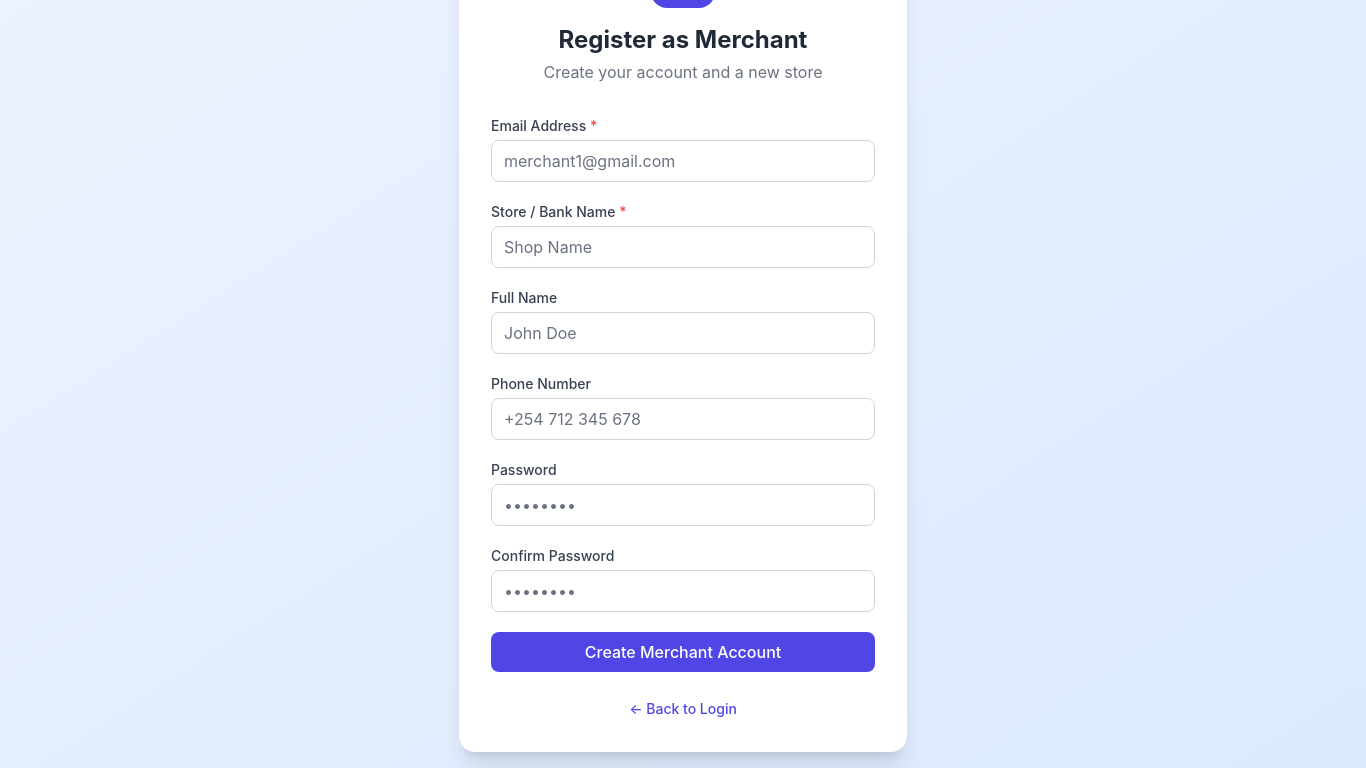
it: Register Page - Merchant Mode (no token) › shows validation error for missing store name
(page scrolled)
Click the button "Create Merchant Account" at (683, 652), box [491, 632, 875, 672]
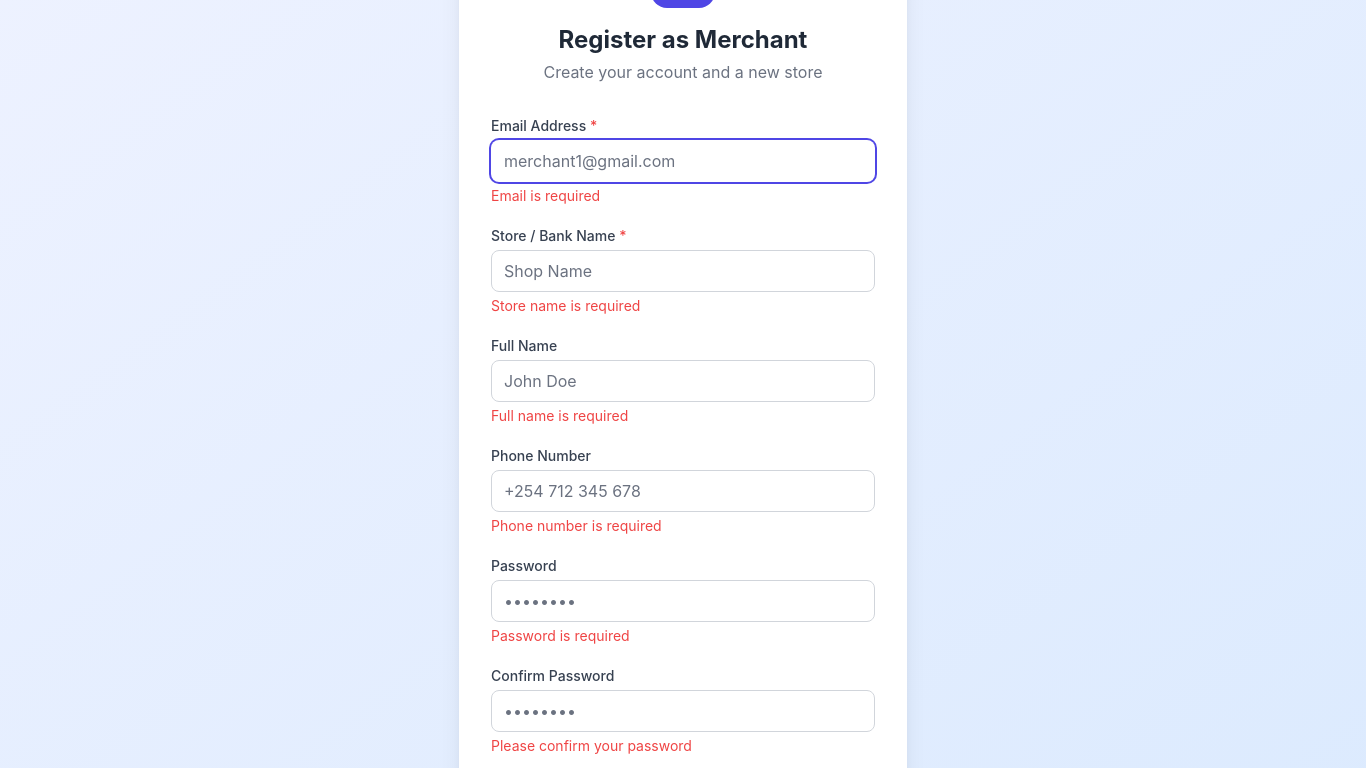
Check: the text "Store name is required" is shown, box [491, 297, 640, 314]
